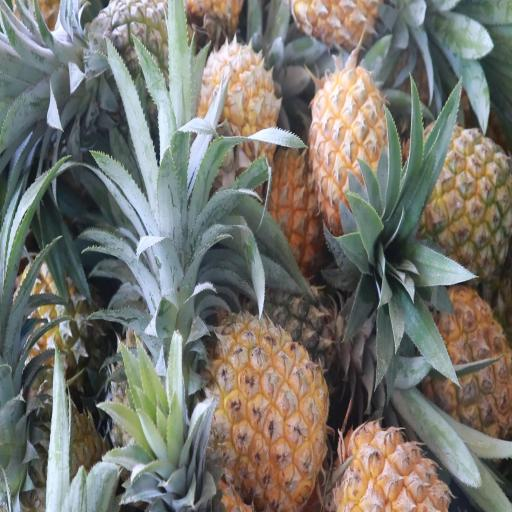Pineapple - v8 v1: (212, 301, 326, 507), (312, 63, 398, 236), (419, 281, 512, 436), (420, 125, 510, 275), (327, 408, 452, 512), (201, 41, 278, 173)
